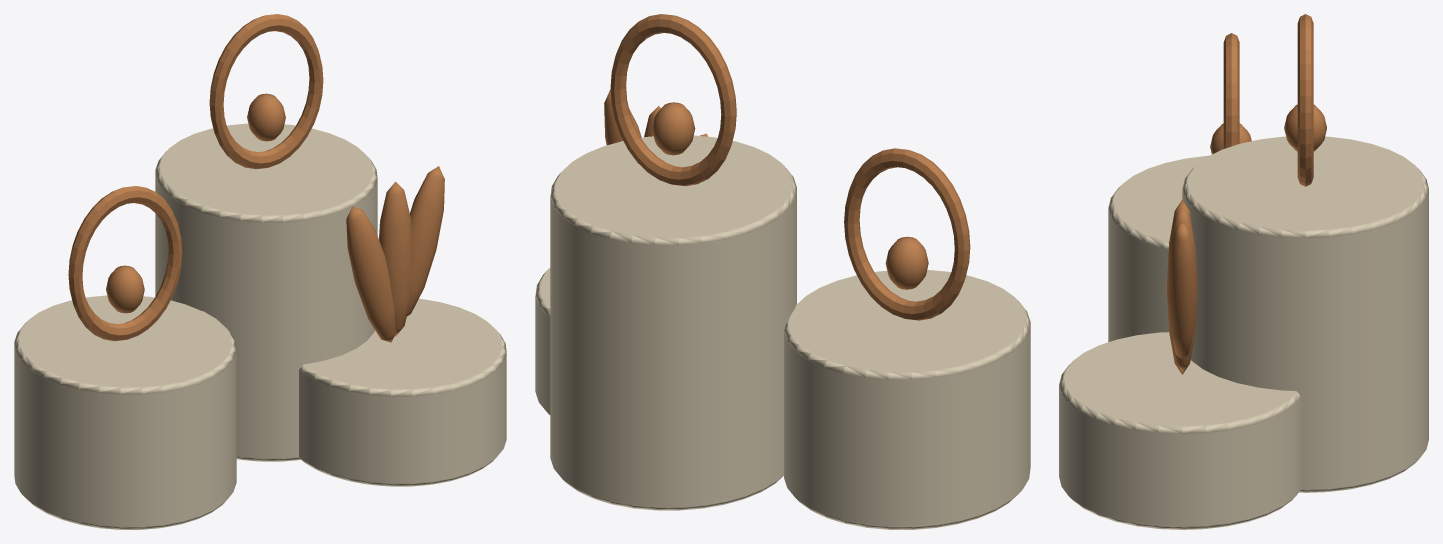
Rendered from achievement-display.fbx.
3 views of the same model, side by side, from view 1: azimuth 30°, elevation 25°; view 2: azimuth 150°, elevation 25°; view 3: azimuth 270°, elevation 25° (orthographic). The views are drawn at different scales.
Visible parts, largest first — view 1: achievement-display; view 2: achievement-display; view 3: achievement-display.
Boxes of the visible parts, left/top/right/bottom form: achievement-display: left=14, top=14, right=506, bottom=529; achievement-display: left=535, top=14, right=1030, bottom=529; achievement-display: left=1059, top=14, right=1428, bottom=529.
Size of the model in its own units: 80 by 70 by 55.
